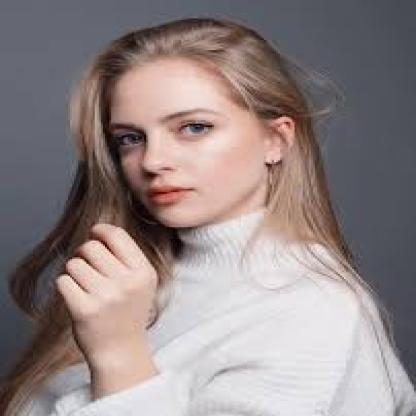person: (80, 20, 300, 229)
